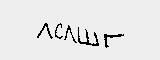Г: (103, 32, 127, 48)
Л: (35, 22, 52, 39), (63, 24, 77, 44)
С: (54, 22, 64, 40)
Ш: (74, 28, 102, 46)
